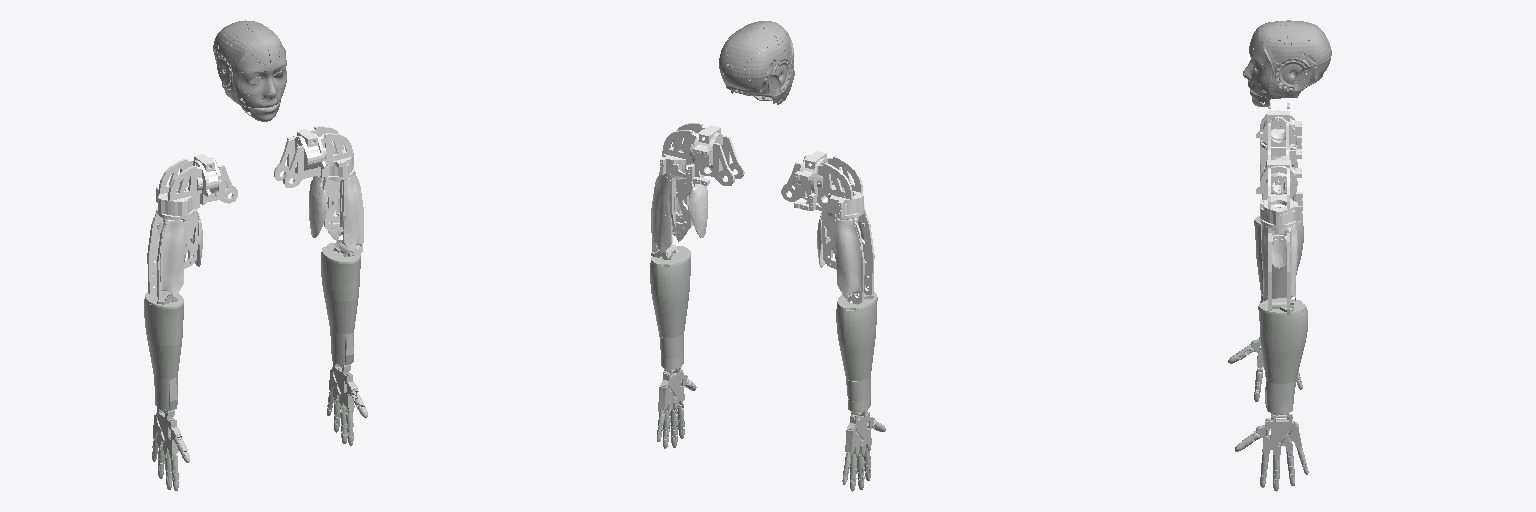
--- Facts derived from the render (not from the file) ---
3 views of the same robot in one strip: view 1: azimuth 30°, elevation 25°; view 2: azimuth 150°, elevation 25°; view 3: azimuth 270°, elevation 25° (orthographic).
Robot: zetax — 47 links, 46 joints (46 revolute); root link base_link; default pose: all joints at 0.
Visible links, largest first — view 1: head_rl_J47, right_bicep_J3, left_hand_J27, right_hand_J4, left_bicep_J26, right_shoulder_forw_backw_J2, left_shoulder_up_down_J24, left_shoulder_forw_backw_J25, right_shoulder_up_down_J1, right_wrist_J5, left_wrist_J28; view 2: head_rl_J47, right_bicep_J3, left_hand_J27, right_hand_J4, left_bicep_J26, right_shoulder_forw_backw_J2, left_shoulder_up_down_J24, left_shoulder_forw_backw_J25, right_shoulder_up_down_J1, right_wrist_J5, left_wrist_J28; view 3: head_rl_J47, left_hand_J27, left_bicep_J26, left_shoulder_forw_backw_J25, right_shoulder_up_down_J1, right_hand_J4, left_wrist_J28.
Link boxes in pixels (bbox=[...]): head_rl_J47: bbox=[213, 20, 286, 121]; right_bicep_J3: bbox=[147, 206, 202, 300]; left_hand_J27: bbox=[321, 240, 360, 364]; right_hand_J4: bbox=[144, 291, 183, 410]; left_bicep_J26: bbox=[309, 167, 363, 256]; right_shoulder_forw_backw_J2: bbox=[156, 159, 210, 215]; left_shoulder_up_down_J24: bbox=[274, 129, 321, 187]; left_shoulder_forw_backw_J25: bbox=[310, 126, 353, 177]; right_shoulder_up_down_J1: bbox=[193, 154, 237, 203]; right_wrist_J5: bbox=[154, 407, 178, 459]; left_wrist_J28: bbox=[330, 362, 354, 412]; head_rl_J47: bbox=[719, 21, 794, 104]; right_bicep_J3: bbox=[817, 205, 874, 304]; left_hand_J27: bbox=[650, 244, 690, 368]; right_hand_J4: bbox=[836, 292, 877, 411]; left_bicep_J26: bbox=[651, 172, 707, 256]; right_shoulder_forw_backw_J2: bbox=[809, 156, 863, 217]; left_shoulder_up_down_J24: bbox=[693, 125, 744, 185]; left_shoulder_forw_backw_J25: bbox=[660, 123, 706, 181]; right_shoulder_up_down_J1: bbox=[781, 151, 826, 210]; right_wrist_J5: bbox=[846, 409, 871, 456]; left_wrist_J28: bbox=[659, 366, 684, 412]; head_rl_J47: bbox=[1243, 20, 1331, 106]; left_hand_J27: bbox=[1258, 298, 1307, 413]; left_bicep_J26: bbox=[1260, 218, 1297, 310]; left_shoulder_forw_backw_J25: bbox=[1256, 166, 1302, 225]; right_shoulder_up_down_J1: bbox=[1260, 111, 1301, 159]; right_hand_J4: bbox=[1254, 216, 1303, 302]; left_wrist_J28: bbox=[1262, 413, 1298, 458].
Size in the robot's own frame: 0.5813 by 0.2535 by 1.15 metres.
Meshes: 47 distinct files referenced, 46 mesh visuals loaded (46 binary STL); not drawn: 1 (reference not matched to a file when rendering).

The robot description file, URDF, robot "zetax":
<?xml version="1.0" ?>
<!-- =================================================================================== -->
<!-- |    This document was autogenerated by xacro from [local-path]/zetaxbot/src/zetax/urdf/zetax.urdf.xacro | -->
<!-- |    EDITING THIS FILE BY HAND IS NOT RECOMMENDED                                 | -->
<!-- =================================================================================== -->
<!--
This URDF was automatically created by SolidWorks to URDF Exporter! Originally created by Stephen Brawner ([email redacted])
Commit Version: 1.6.0-4-g7f85cfe  Build Version: 1.6.7995.38578
For more information, please see http://wiki.ros.org/sw_urdf_exporter
-->
<robot name="zetax">
    <link name="base_link">
        <inertial>
            <!-- xyz="8.30385774387186E-06 -0.00564900549699818 0.407657033872951" -->
            <origin rpy="0 0 0" xyz="0 0 0" />
            <mass value="9.78773130984725" />
            <inertia ixx="0" ixy="0" ixz="0" iyy="0" iyz="0" izz="0" />
        </inertial>
        <visual>
            <origin rpy="0 0 0" xyz="0 0 0" />
            <geometry>
                <mesh filename="package://zetax/meshes/base_link.STL" />
            </geometry>
            <material name="">
                <color rgba="0.827450980392157 0.83921568627451 0.827450980392157 1" />
            </material>
        </visual>
        <collision>
            <origin rpy="0 0 0" xyz="0 0 0" />
            <geometry>
                <mesh filename="package://zetax/meshes/base_link.STL" />
            </geometry>
        </collision>
    </link>
    <link name="right_shoulder_up_down_J1">
        <inertial>
            <origin rpy="0 0 0" xyz="0.0153103411855154 0.0488164370602937 0.0492738852648198" />
            <mass value="0.30055137668225" />
            <inertia ixx="0.000449736475717685" ixy="-7.75811645757491E-06" ixz="-5.07621826856943E-06" iyy="0.000192182916580971" iyz="-1.88936498599343E-05" izz="0.000306606619774997" />
        </inertial>
        <visual>
            <origin rpy="0 0 0" xyz="0 0 0" />
            <geometry>
                <mesh filename="package://zetax/meshes/right_shoulder_up_down_J1.STL" />
            </geometry>
            <material name="">
                <color rgba="1 1 1 1" />
            </material>
        </visual>
        <collision>
            <origin rpy="0 0 0" xyz="0 0 0" />
            <geometry>
                <mesh filename="package://zetax/meshes/right_shoulder_up_down_J1.STL" />
            </geometry>
        </collision>
    </link>
    <joint name="J1" type="revolute">
        <origin rpy="-1.5708 0 0" xyz="-0.14354 -0.0547 0.90833" />
        <parent link="base_link" />
        <child link="right_shoulder_up_down_J1" />
        <axis xyz="0 0 1" />
        <limit effort="0" lower="0" upper="1.57" velocity="0" />
    </joint>
    <link name="right_shoulder_forw_backw_J2">
        <inertial>
            <origin rpy="0 0 0" xyz="0.0446469801637055 0.0228744232692757 -0.00275740740024161" />
            <mass value="0.403176904286232" />
            <inertia ixx="0.000343284355940545" ixy="-1.15995503921432E-06" ixz="-1.22811066459E-05" iyy="0.000457510691442232" iyz="-6.93541963407655E-06" izz="0.000360012473378437" />
        </inertial>
        <visual>
            <origin rpy="0 0 0" xyz="0 0 0" />
            <geometry>
                <mesh filename="package://zetax/meshes/right_shoulder_forw_backw_J2.STL" />
            </geometry>
            <material name="">
                <color rgba="1 1 1 1" />
            </material>
        </visual>
        <collision>
            <origin rpy="0 0 0" xyz="0 0 0" />
            <geometry>
                <mesh filename="package://zetax/meshes/right_shoulder_forw_backw_J2.STL" />
            </geometry>
        </collision>
    </link>
    <joint name="J2" type="revolute">
        <origin rpy="-3.1416 0 3.1416" xyz="-0.011824 0.03981 0.045862" />
        <parent link="right_shoulder_up_down_J1" />
        <child link="right_shoulder_forw_backw_J2" />
        <axis xyz="1 0 0" />
        <limit effort="0" lower="0" upper="1.57" velocity="0" />
    </joint>
    <link name="right_bicep_J3">
        <inertial>
            <origin rpy="0 0 0" xyz="-0.00664408741859399 -5.97015817801298E-05 -0.0827827026602137" />
            <mass value="0.500684348318071" />
            <inertia ixx="0.000405508349808579" ixy="-4.43264630740647E-07" ixz="-8.59139485963849E-05" iyy="0.000666172399407517" iyz="-2.28923617458674E-07" izz="0.000403330494710682" />
        </inertial>
        <visual>
            <origin rpy="0 0 0" xyz="0 0 0" />
            <geometry>
                <mesh filename="package://zetax/meshes/right_bicep_J3.STL" />
            </geometry>
            <material name="">
                <color rgba="1 1 1 1" />
            </material>
        </visual>
        <collision>
            <origin rpy="0 0 0" xyz="0 0 0" />
            <geometry>
                <mesh filename="package://zetax/meshes/right_bicep_J3.STL" />
            </geometry>
        </collision>
    </link>
    <joint name="J3" type="revolute">
        <origin rpy="-1.5708 0 -3.1416" xyz="0.066391 0.062911 -2.2895E-05" />
        <parent link="right_shoulder_forw_backw_J2" />
        <child link="right_bicep_J3" />
        <axis xyz="0 0 1" />
        <limit effort="0" lower="-1.57" upper="1.57" velocity="0" />
    </joint>
    <link name="right_hand_J4">
        <inertial>
            <origin rpy="0 0 0" xyz="-0.00051849594887482 -0.0896886610886017 -0.0236602080704487" />
            <mass value="0.305840674504553" />
            <inertia ixx="0.000493914524722846" ixy="-2.18663073380393E-07" ixz="2.39632973455391E-06" iyy="0.000506123179189836" iyz="2.37152311419707E-06" izz="0.000341594678834825" />
        </inertial>
        <visual>
            <origin rpy="0 0 0" xyz="0 0 0" />
            <geometry>
                <mesh filename="package://zetax/meshes/right_hand_J4.STL" />
            </geometry>
            <material name="">
                <color rgba="0.827450980392157 0.83921568627451 0.827450980392157 1" />
            </material>
        </visual>
        <collision>
            <origin rpy="0 0 0" xyz="0 0 0" />
            <geometry>
                <mesh filename="package://zetax/meshes/right_hand_J4.STL" />
            </geometry>
        </collision>
    </link>
    <joint name="J4" type="revolute">
        <origin rpy="1.5707 0 0.001174" xyz="-0.031081 -0.026418 -0.22476" />
        <parent link="right_bicep_J3" />
        <child link="right_hand_J4" />
        <axis xyz="0 0 1" />
        <limit effort="0" lower="0" upper="1.57" velocity="0" />
    </joint>
    <link name="right_wrist_J5">
        <inertial>
            <origin rpy="0 0 0" xyz="-0.000114101901909747 0.00644608275733352 0.0569793460274128" />
            <mass value="0.0836281309746193" />
            <inertia ixx="8.68948537796338E-05" ixy="7.39495664486675E-08" ixz="2.94773115317809E-07" iyy="6.09815762715336E-05" iyz="-1.95191463960257E-05" izz="3.11880385129723E-05" />
        </inertial>
        <visual>
            <origin rpy="0 0 0" xyz="0 0 0" />
            <geometry>
                <mesh filename="package://zetax/meshes/right_wrist_J5.STL" />
            </geometry>
            <material name="">
                <color rgba="0.827450980392157 0.83921568627451 0.827450980392157 1" />
            </material>
        </visual>
        <collision>
            <origin rpy="0 0 0" xyz="0 0 0" />
            <geometry>
                <mesh filename="package://zetax/meshes/right_wrist_J5.STL" />
            </geometry>
        </collision>
    </link>
    <joint name="J5" type="revolute">
        <origin rpy="1.5658 -0.001174 0" xyz="-0.00026291 -0.28325 -0.016282" />
        <parent link="right_hand_J4" />
        <child link="right_wrist_J5" />
        <axis xyz="0 0 1" />
        <limit effort="0" lower="-1.57" upper="1.57" velocity="0" />
    </joint>
    <link name="right_thump_J7">
        <inertial>
            <origin rpy="0 0 0" xyz="-0.000312541279265832 -0.0159735942310025 -0.00229614451493243" />
            <mass value="0.0103243031875615" />
            <inertia ixx="1.09991220710435E-06" ixy="-5.0205219342428E-09" ixz="-6.31358336053234E-09" iyy="9.4554149761043E-07" iyz="7.36808844017295E-08" izz="7.48337316330889E-07" />
        </inertial>
        <visual>
            <origin rpy="0 0 0" xyz="0 0 0" />
            <geometry>
                <mesh filename="package://zetax/meshes/right_thump_J7.STL" />
            </geometry>
            <material name="">
                <color rgba="0.827450980392157 0.83921568627451 0.827450980392157 1" />
            </material>
        </visual>
        <collision>
            <origin rpy="0 0 0" xyz="0 0 0" />
            <geometry>
                <mesh filename="package://zetax/meshes/right_thump_J7.STL" />
            </geometry>
        </collision>
    </link>
    <joint name="J7" type="revolute">
        <origin rpy="3.0585 0 0" xyz="0 0.030154 0.05991" />
        <parent link="right_wrist_J5" />
        <child link="right_thump_J7" />
        <axis xyz="0 0 1" />
        <limit effort="0" lower="0" upper="1.57" velocity="0" />
    </joint>
    <link name="right_thump_J8">
        <inertial>
            <origin rpy="0 0 0" xyz="0.00263831372173146 -0.0173217879633072 -0.00325000625952035" />
            <mass value="0.00578743353711955" />
            <inertia ixx="3.72666607894796E-07" ixy="5.56843823703261E-09" ixz="-7.69389962117362E-13" iyy="3.35633840073675E-07" iyz="2.00234946621592E-13" izz="2.90221053702595E-07" />
        </inertial>
        <visual>
            <origin rpy="0 0 0" xyz="0 0 0" />
            <geometry>
                <mesh filename="package://zetax/meshes/right_thump_J8.STL" />
            </geometry>
            <material name="">
                <color rgba="0.827450980392157 0.83921568627451 0.827450980392157 1" />
            </material>
        </visual>
        <collision>
            <origin rpy="0 0 0" xyz="0 0 0" />
            <geometry>
                <mesh filename="package://zetax/meshes/right_thump_J8.STL" />
            </geometry>
        </collision>
    </link>
    <joint name="J8" type="revolute">
        <origin rpy="0.76984 0.32309 0.29857" xyz="-0.0022994 -0.034211 -0.0096226" />
        <parent link="right_thump_J7" />
        <child link="right_thump_J8" />
        <axis xyz="0 0 -1" />
        <limit effort="0" lower="0" upper="0" velocity="0" />
        <mimic joint="J7" multiplier="-0.7" offset="0" />
    </joint>
    <link name="right_thump_J9">
        <inertial>
            <origin rpy="0 0 0" xyz="-0.000487645597847364 -0.0133117732514413 -0.00324058247978604" />
            <mass value="0.004086100810224" />
            <inertia ixx="1.8045778456823E-07" ixy="1.31774837356245E-08" ixz="1.41067502616413E-10" iyy="1.6693109886181E-07" iyz="-2.07089987511365E-11" izz="1.95952066397287E-07" />
        </inertial>
        <visual>
            <origin rpy="0 0 0" xyz="0 0 0" />
            <geometry>
                <mesh filename="package://zetax/meshes/right_thump_J9.STL" />
            </geometry>
            <material name="">
                <color rgba="0.827450980392157 0.83921568627451 0.827450980392157 1" />
            </material>
        </visual>
        <collision>
            <origin rpy="0 0 0" xyz="0 0 0" />
            <geometry>
                <mesh filename="package://zetax/meshes/right_thump_J9.STL" />
            </geometry>
        </collision>
    </link>
    <joint name="J9" type="revolute">
        <origin rpy="0 0 0" xyz="0.0018602 -0.028082 0" />
        <parent link="right_thump_J8" />
        <child link="right_thump_J9" />
        <axis xyz="0 0 -1" />
        <limit effort="0" lower="0" upper="0" velocity="0" />
        <mimic joint="J8" multiplier="0.3" offset="0" />
    </joint>
    <link name="right_index_J10">
        <inertial>
            <origin rpy="0 0 0" xyz="0.000885768796903552 0.0181923331643391 0.00325002739626079" />
            <mass value="0.00464663258164643" />
            <inertia ixx="3.43446856353789E-07" ixy="-3.61141088926714E-09" ixz="1.46546023221946E-10" iyy="2.19871475309783E-07" iyz="1.20170564999191E-12" izz="2.98903706139635E-07" />
        </inertial>
        <visual>
            <origin rpy="0 0 0" xyz="0 0 0" />
            <geometry>
                <mesh filename="package://zetax/meshes/right_index_J10.STL" />
            </geometry>
            <material name="">
                <color rgba="0.827450980392157 0.83921568627451 0.827450980392157 1" />
            </material>
        </visual>
        <collision>
            <origin rpy="0 0 0" xyz="0 0 0" />
            <geometry>
                <mesh filename="package://zetax/meshes/right_index_J10.STL" />
            </geometry>
        </collision>
    </link>
    <joint name="J10" type="revolute">
        <origin rpy="1.4739 0 0" xyz="0.0005 0.038503 0.121" />
        <parent link="right_wrist_J5" />
        <child link="right_index_J10" />
        <axis xyz="0 0 -1" />
        <limit effort="0" lower="0" upper="1.57" velocity="0" />
    </joint>
    <link name="right_index_J11">
        <inertial>
            <origin rpy="0 0 0" xyz="-0.00112479025271311 0.0108503126007952 0.00325028734460535" />
            <mass value="0.0029694189425259" />
            <inertia ixx="1.11378032864788E-07" ixy="-6.59585267819045E-09" ixz="4.07927660175476E-12" iyy="9.24092224681025E-08" iyz="6.36819227427545E-12" izz="1.09028843349904E-07" />
        </inertial>
        <visual>
            <origin rpy="0 0 0" xyz="0 0 0" />
            <geometry>
                <mesh filename="package://zetax/meshes/right_index_J11.STL" />
            </geometry>
            <material name="">
                <color rgba="0.827450980392157 0.83921568627451 0.827450980392157 1" />
            </material>
        </visual>
        <collision>
            <origin rpy="0 0 0" xyz="0 0 0" />
            <geometry>
                <mesh filename="package://zetax/meshes/right_index_J11.STL" />
            </geometry>
        </collision>
    </link>
    <joint name="J11" type="revolute">
        <origin rpy="0 0 0" xyz="0.0014005 0.0358 0" />
        <parent link="right_index_J10" />
        <child link="right_index_J11" />
        <axis xyz="0 0 1" />
        <limit effort="0" lower="0" upper="0" velocity="0" />
        <mimic joint="J10" multiplier="-0.7" offset="0" />
    </joint>
    <link name="right_index_J12">
        <inertial>
            <origin rpy="0 0 0" xyz="0.000415442786964482 0.0114626267171603 0.00324842592671561" />
            <mass value="0.0024583573430902" />
            <inertia ixx="8.02407963934757E-08" ixy="-6.59250875166553E-09" ixz="-3.07796695485008E-11" iyy="6.18424662609382E-08" iyz="-3.08476291172074E-11" izz="8.42610823013142E-08" />
        </inertial>
        <visual>
            <origin rpy="0 0 0" xyz="0 0 0" />
            <geometry>
                <mesh filename="package://zetax/meshes/right_index_J12.STL" />
            </geometry>
            <material name="">
                <color rgba="0.827450980392157 0.83921568627451 0.827450980392157 1" />
            </material>
        </visual>
        <collision>
            <origin rpy="0 0 0" xyz="0 0 0" />
            <geometry>
                <mesh filename="package://zetax/meshes/right_index_J12.STL" />
            </geometry>
        </collision>
    </link>
    <joint name="J12" type="revolute">
        <origin rpy="0 0 0" xyz="-0.0015 0.023 0" />
        <parent link="right_index_J11" />
        <child link="right_index_J12" />
        <axis xyz="0 0 1" />
        <limit effort="0" lower="0" upper="0" velocity="0" />
        <mimic joint="J11" multiplier="0.3" offset="0" />
    </joint>
    <link name="right_middle_J13">
        <inertial>
            <origin rpy="0 0 0" xyz="0.00093448572400906 0.0191929103014755 -0.00342872444496174" />
            <mass value="0.00545626791359473" />
            <inertia ixx="4.48871160567151E-07" ixy="-4.71994440627214E-09" ixz="1.91334158820802E-10" iyy="2.87363177525294E-07" iyz="1.59686790225507E-12" izz="3.90655204851821E-07" />
        </inertial>
        <visual>
            <origin rpy="0 0 0" xyz="0 0 0" />
            <geometry>
                <mesh filename="package://zetax/meshes/right_middle_J13.STL" />
            </geometry>
            <material name="">
                <color rgba="0.827450980392157 0.83921568627451 0.827450980392157 1" />
            </material>
        </visual>
        <collision>
            <origin rpy="0 0 0" xyz="0 0 0" />
            <geometry>
                <mesh filename="package://zetax/meshes/right_middle_J13.STL" />
            </geometry>
        </collision>
    </link>
    <joint name="J13" type="revolute">
        <origin rpy="1.54697555534349 0 0" xyz="0.000499999999999945 0.0049248143934115 0.125899819314373" />
        <parent link="right_wrist_J5" />
        <child link="right_middle_J13" />
        <axis xyz="0 0 -1" />
        <limit effort="0" lower="0" upper="1.57" velocity="0" />
    </joint>
    <link name="right_middle_J14">
        <inertial>
            <origin rpy="0 0 0" xyz="-0.00118665470615636 0.0114470881360954 -0.00342835648925043" />
            <mass value="0.00348681203810925" />
            <inertia ixx="1.45566387781986E-07" ixy="-8.62035369789367E-09" ixz="5.04714736200374E-12" iyy="1.20774944205303E-07" iyz="7.26536743973101E-12" izz="1.42496278066435E-07" />
        </inertial>
        <visual>
            <origin rpy="0 0 0" xyz="0 0 0" />
            <geometry>
                <mesh filename="package://zetax/meshes/right_middle_J14.STL" />
            </geometry>
            <material name="">
                <color rgba="0.827450980392157 0.83921568627451 0.827450980392157 1" />
            </material>
        </visual>
        <collision>
            <origin rpy="0 0 0" xyz="0 0 0" />
            <geometry>
                <mesh filename="package://zetax/meshes/right_middle_J14.STL" />
            </geometry>
        </collision>
    </link>
    <joint name="J14" type="revolute">
        <origin rpy="0 0 0" xyz="0.00147757420956629 0.0377689999999999 0" />
        <parent link="right_middle_J13" />
        <child link="right_middle_J14" />
        <axis xyz="0 0 1" />
        <limit effort="0" lower="0" upper="0" velocity="0" />
        <mimic joint="J13" multiplier="-0.7" offset="0" />
    </joint>
    <link name="right_middle_J15">
        <inertial>
            <origin rpy="0 0 0" xyz="0.000438288966745082 0.0120931291119732 -0.0034304361065291" />
            <mass value="0.00288671634599157" />
            <inertia ixx="1.0487197371271E-07" ixy="-8.6159556716268E-09" ixz="-4.02058520089483E-11" iyy="8.08259928414099E-08" iyz="-3.99246485498087E-11" izz="1.10125860384991E-07" />
        </inertial>
        <visual>
            <origin rpy="0 0 0" xyz="0 0 0" />
            <geometry>
                <mesh filename="package://zetax/meshes/right_middle_J15.STL" />
            </geometry>
            <material name="">
                <color rgba="0.827450980392157 0.83921568627451 0.827450980392157 1" />
            </material>
        </visual>
        <collision>
            <origin rpy="0 0 0" xyz="0 0 0" />
            <geometry>
                <mesh filename="package://zetax/meshes/right_middle_J15.STL" />
            </geometry>
        </collision>
    </link>
    <joint name="J15" type="revolute">
        <origin rpy="0 0 0" xyz="-0.00158249999999993 0.024265 0" />
        <parent link="right_middle_J14" />
        <child link="right_middle_J15" />
        <axis xyz="0 0 1" />
        <limit effort="0" lower="0" upper="0" velocity="0" />
        <mimic joint="J14" multiplier="0.3" offset="0" />
    </joint>
    <link name="right_little_J16">
        <inertial>
            <origin rpy="0 0 0" xyz="-8.98024008864629E-05 0.0206467540578174 -0.00517311514485388" />
            <mass value="0.0179601624148531" />
            <inertia ixx="4.63043215432541E-06" ixy="3.28723230229524E-08" ixz="-2.80419616476293E-08" iyy="2.14820492587722E-06" iyz="1.31085473365563E-06" izz="3.35618938107579E-06" />
        </inertial>
        <visual>
            <origin rpy="0 0 0" xyz="0 0 0" />
            <geometry>
                <mesh filename="package://zetax/meshes/right_little_J16.STL" />
            </geometry>
            <material name="">
                <color rgba="0.827450980392157 0.83921568627451 0.827450980392157 1" />
            </material>
        </visual>
        <collision>
            <origin rpy="0 0 0" xyz="0 0 0" />
            <geometry>
                <mesh filename="package://zetax/meshes/right_little_J16.STL" />
            </geometry>
        </collision>
    </link>
    <joint name="J16" type="revolute">
        <origin rpy="2.45248970858413 0 0" xyz="0 -0.0245669987447082 0.0562148526643473" />
        <parent link="right_wrist_J5" />
        <child link="right_little_J16" />
        <axis xyz="0 0 -1" />
        <limit effort="0" lower="0" upper="0.3" velocity="0" />
    </joint>
    <link name="right_little_J17">
        <inertial>
            <origin rpy="0 0 0" xyz="0.000738285310396103 -0.0151633108275956 -0.00354238308959057" />
            <mass value="0.00269063748938314" />
            <inertia ixx="1.38161588926314E-07" ixy="1.4527831711997E-09" ixz="-5.86415639001342E-11" iyy="8.84498221632085E-08" iyz="5.34062842370107E-13" izz="1.20242933188226E-07" />
        </inertial>
        <visual>
            <origin rpy="0 0 0" xyz="0 0 0" />
            <geometry>
                <mesh filename="package://zetax/meshes/right_little_J17.STL" />
            </geometry>
            <material name="">
                <color rgba="0.827450980392157 0.83921568627451 0.827450980392157 1" />
            </material>
        </visual>
        <collision>
            <origin rpy="0 0 0" xyz="0 0 0" />
            <geometry>
                <mesh filename="package://zetax/meshes/right_little_J17.STL" />
            </geometry>
        </collision>
    </link>
    <joint name="J17" type="revolute">
        <origin rpy="2.5138228945981 0 0" xyz="0.0003000000000003 0.0457645578352131 -0.0251422576705387" />
        <parent link="right_little_J16" />
        <child link="right_little_J17" />
        <axis xyz="0 0 1" />
        <limit effort="0" lower="0" upper="0" velocity="0" />
        <mimic joint="J16" multiplier="5" offset="0" />
    </joint>
    <link name="right_little_J18">
        <inertial>
            <origin rpy="0 0 0" xyz="-5.03587732555433E-05 -0.00909197174782861 -0.00354251907251552" />
            <mass value="0.00171949550424563" />
            <inertia ixx="4.4224354490247E-08" ixy="3.34459922111536E-09" ixz="-2.13170417332028E-12" iyy="3.7763582384764E-08" iyz="3.02539180861974E-12" izz="4.38544333330661E-08" />
        </inertial>
        <visual>
            <origin rpy="0 0 0" xyz="0 0 0" />
            <geometry>
                <mesh filename="package://zetax/meshes/right_little_J18.STL" />
            </geometry>
            <material name="">
                <color rgba="0.827450980392157 0.83921568627451 0.827450980392157 1" />
            </material>
        </visual>
        <collision>
            <origin rpy="0 0 0" xyz="0 0 0" />
            <geometry>
                <mesh filename="package://zetax/meshes/right_little_J18.STL" />
            </geometry>
        </collision>
    </link>
    <joint name="J18" type="revolute">
        <origin rpy="0 0 0" xyz="0.00116735365277099 -0.0298393000000001 0" />
        <parent link="right_little_J17" />
        <child link="right_little_J18" />
        <axis xyz="0 0 -1" />
        <limit effort="0" lower="0" upper="0" velocity="0" />
        <mimic joint="J17" multiplier="-0.7" offset="0" />
    </joint>
    <link name="right_little_J19">
        <inertial>
            <origin rpy="0 0 0" xyz="0.00034628949288168 -0.00955417083022873 -0.00354106858562218" />
            <mass value="0.00142350707680254" />
            <inertia ixx="3.2279550726875E-08" ixy="2.65202727902269E-09" ixz="1.23565562115379E-11" iyy="2.48779291907755E-08" iyz="-1.24006550660179E-11" izz="3.38968343808897E-08" />
        </inertial>
        <visual>
            <origin rpy="0 0 0" xyz="0 0 0" />
            <geometry>
                <mesh filename="package://zetax/meshes/right_little_J19.STL" />
            </geometry>
            <material name="">
                <color rgba="0.827450980392157 0.83921568627451 0.827450980392157 1" />
            </material>
        </visual>
        <collision>
            <origin rpy="0 0 0" xyz="0 0 0" />
            <geometry>
                <mesh filename="package://zetax/meshes/right_little_J19.STL" />
            </geometry>
        </collision>
    </link>
    <joint name="J19" type="revolute">
        <origin rpy="0 0 0" xyz="0.000626873297826347 -0.0192009954216176 0" />
        <parent link="right_little_J18" />
        <child link="right_little_J19" />
        <axis xyz="0 0 -1" />
        <limit effort="0" lower="0" upper="0" velocity="0" />
        <mimic joint="J18" multiplier="0.3" offset="0" />
    </joint>
    <link name="right_ring_J20">
        <inertial>
            <origin rpy="0 0 0" xyz="-0.000105678808513643 0.0177423765079019 -0.00227735628746051" />
            <mass value="0.0133231613815407" />
            <inertia ixx="2.53720274403352E-06" ixy="2.24359389501848E-08" ixz="-1.26426387567194E-08" iyy="1.26031160104865E-06" iyz="5.29805441775577E-07" izz="1.92896860086194E-06" />
        </inertial>
        <visual>
            <origin rpy="0 0 0" xyz="0 0 0" />
            <geometry>
                <mesh filename="package://zetax/meshes/right_ring_J20.STL" />
            </geometry>
            <material name="">
                <color rgba="0.827450980392157 0.83921568627451 0.827450980392157 1" />
            </material>
        </visual>
        <collision>
            <origin rpy="0 0 0" xyz="0 0 0" />
            <geometry>
                <mesh filename="package://zetax/meshes/right_ring_J20.STL" />
            </geometry>
        </collision>
    </link>
    <joint name="J20" type="revolute">
        <origin rpy="2.45248970858413 0 0" xyz="0 -0.00462154667570825 0.0804255194490987" />
        <parent link="right_wrist_J5" />
        <child link="right_ring_J20" />
        <axis xyz="0 0 -1" />
        <limit effort="0" lower="0" upper="0.3" velocity="0" />
    </joint>
    <link name="right_ring_J21">
        <inertial>
            <origin rpy="0 0 0" xyz="0.000885765472167344 -0.0181923324616347 -0.00325000959007114" />
            <mass value="0.0046466326400844" />
            <inertia ixx="3.43446584998095E-07" ixy="3.6113649242351E-09" ixz="-1.45752572936174E-10" iyy="2.19871458526461E-07" iyz="1.31703590233812E-12" izz="2.98903865706348E-07" />
        </inertial>
        <visual>
            <origin rpy="0 0 0" xyz="0 0 0" />
            <geometry>
                <mesh filename="package://zetax/meshes/right_ring_J21.STL" />
            </geometry>
            <material name="">
                <color rgba="0.827450980392157 0.83921568627451 0.827450980392157 1" />
            </material>
        </visual>
        <collision>
            <origin rpy="0 0 0" xyz="0 0 0" />
            <geometry>
                <mesh filename="package://zetax/meshes/right_ring_J21.STL" />
            </geometry>
        </collision>
    </link>
    <joint name="J21" type="revolute">
        <origin rpy="2.3454052782576 0 0" xyz="0.000300000000000133 0.0353164766008508 -0.0193875475750147" />
        <parent link="right_ring_J20" />
        <child link="right_ring_J21" />
        <axis xyz="0 0 1" />
        <limit effort="0" lower="0" upper="0" velocity="0" />
        <mimic joint="J20" multiplier="5" offset="0" />
    </joint>
    <link name="right_ring_J22">
        <inertial>
            <origin rpy="0 0 0" xyz="-0.00112479920719416 -0.0108503138070926 -0.00325048082916662" />
            <mass value="0.0029694193874999" />
            <inertia ixx="1.11378037517521E-07" ixy="6.5957091819035E-09" ixz="-3.58278563863887E-12" iyy="9.24091422366065E-08" iyz="4.56068615493303E-12" izz="1.09028794715161E-07" />
        </inertial>
        <visual>
            <origin rpy="0 0 0" xyz="0 0 0" />
            <geometry>
                <mesh filename="package://zetax/meshes/right_ring_J22.STL" />
            </geometry>
            <material name="">
                <color rgba="0.827450980392157 0.83921568627451 0.827450980392157 1" />
            </material>
        </visual>
        <collision>
            <origin rpy="0 0 0" xyz="0 0 0" />
            <geometry>
                <mesh filename="package://zetax/meshes/right_ring_J22.STL" />
            </geometry>
        </collision>
    </link>
    <joint name="J22" type="revolute">
        <origin rpy="0 0 0" xyz="0.00140054427447051 -0.0358 0" />
        <parent link="right_ring_J21" />
        <child link="right_ring_J22" />
        <axis xyz="0 0 -1" />
        <limit effort="0" lower="0" upper="0" velocity="0" />
        <mimic joint="J21" multiplier="-0.7" offset="0" />
    </joint>
    <link name="right_ring_J23">
        <inertial>
            <origin rpy="0 0 0" xyz="0.0004154465780426 -0.0114626823210635 -0.00324842438070902" />
            <mass value="0.00245836239377154" />
            <inertia ixx="8.02415848752415E-08" ixy="6.5924895014897E-09" ixz="3.07368349181426E-11" iyy="6.18423906188225E-08" iyz="-3.08203788063756E-11" izz="8.4261851740819E-08" />
        </inertial>
        <visual>
            <origin rpy="0 0 0" xyz="0 0 0" />
            <geometry>
                <mesh filename="package://zetax/meshes/right_ring_J23.STL" />
            </geometry>
            <material name="">
                <color rgba="0.827450980392157 0.83921568627451 0.827450980392157 1" />
            </material>
        </visual>
        <collision>
            <origin rpy="0 0 0" xyz="0 0 0" />
            <geometry>
                <mesh filename="package://zetax/meshes/right_ring_J23.STL" />
            </geometry>
        </collision>
    </link>
    <joint name="J23" type="revolute">
        <origin rpy="0 0 0" xyz="-0.00149999999999995 -0.023 0" />
        <parent link="right_ring_J22" />
        <child link="right_ring_J23" />
        <axis xyz="0 0 -1" />
        <limit effort="0" lower="0" upper="0" velocity="0" />
        <mimic joint="J22" multiplier="0.3" offset="0" />
    </joint>
    <link name="left_shoulder_up_down_J24">
        <inertial>
            <origin rpy="0 0 0" xyz="-0.011709027508866 -0.0473030767898499 -0.0490241966657768" />
            <mass value="0.366045748940139" />
            <inertia ixx="0.000481352210731466" ixy="-8.02206075381562E-06" ixz="-5.21762437502641E-06" iyy="0.000219240097264633" iyz="-1.93959927720844E-05" izz="0.000334805992705867" />
        </inertial>
        <visual>
            <origin rpy="0 0 0" xyz="0 0 0" />
            <geometry>
                <mesh filename="package://zetax/meshes/left_shoulder_up_down_J24.STL" />
            </geometry>
            <material name="">
                <color rgba="1 1 1 1" />
            </material>
        </visual>
        <collision>
            <origin rpy="0 0 0" xyz="0 0 0" />
            <geometry>
                <mesh filename="package://zetax/meshes/left_shoulder_up_down_J24.STL" />
            </geometry>
        </collision>
    </link>
    <joint name="J24" type="revolute">
        <origin rpy="1.5708 0 0" xyz="0.14349 -0.0547 0.90833" />
        <parent link="base_link" />
        <child link="left_shoulder_up_down_J24" />
        <axis xyz="0 0 1" />
        <limit effort="0" lower="0" upper="1.57" velocity="0" />
    </joint>
    <link name="left_shoulder_forw_backw_J25">
        <inertial>
            <origin rpy="0 0 0" xyz="0.0231032969066377 0.00279018284147345 0.0447822812601939" />
            <mass value="0.405574951034979" />
            <inertia ixx="0.00045930773188588" ixy="5.88188195853634E-06" ixz="-1.17020062224993E-06" iyy="0.000360847956459487" iyz="1.19733191593354E-05" izz="0.000344228107819219" />
        </inertial>
        <visual>
            <origin rpy="0 0 0" xyz="0 0 0" />
            <geometry>
                <mesh filename="package://zetax/meshes/left_shoulder_forw_backw_J25.STL" />
            </geometry>
            <material name="">
                <color rgba="1 1 1 1" />
            </material>
        </visual>
        <collision>
            <origin rpy="0 0 0" xyz="0 0 0" />
            <geometry>
                <mesh filename="package://zetax/meshes/left_shoulder_forw_backw_J25.STL" />
            </geometry>
        </collision>
    </link>
    <joint name="J25" type="revolute">
        <origin rpy="-1.5708 0.010798 -1.5708" xyz="0.011824 -0.03981 -0.045862" />
        <parent link="left_shoulder_up_down_J24" />
        <child link="left_shoulder_forw_backw_J25" />
        <axis xyz="0 0 -1" />
        <limit effort="0" lower="0" upper="1.57" velocity="0" />
    </joint>
    <link name="left_bicep_J26">
        <inertial>
            <origin rpy="0 0 0" xyz="0.00664392075779083 0.000201403954469452 -0.082782114943592" />
            <mass value="0.500684348318072" />
            <inertia ixx="0.000405508349808579" ixy="-4.43264630740654E-07" ixz="8.59139485963849E-05" iyy="0.000666172399407517" iyz="2.28923617458689E-07" izz="0.000403330494710682" />
        </inertial>
        <visual>
            <origin rpy="0 0 0" xyz="0 0 0" />
            <geometry>
                <mesh filename="package://zetax/meshes/left_bicep_J26.STL" />
            </geometry>
            <material name="">
                <color rgba="1 1 1 1" />
            </material>
        </visual>
        <collision>
            <origin rpy="0 0 0" xyz="0 0 0" />
            <geometry>
                <mesh filename="package://zetax/meshes/left_bicep_J26.STL" />
            </geometry>
        </collision>
    </link>
    <joint name="J26" type="revolute">
        <origin rpy="-0.010798 -1.5708 0" xyz="0.062925 0.00020055 0.06637" />
        <parent link="left_shoulder_forw_backw_J25" />
        <child link="left_bicep_J26" />
        <axis xyz="9.8768E-05 0 1" />
        <limit effort="0" lower="-1.57" upper="1.57" velocity="0" />
    </joint>
    <link name="left_hand_J27">
        <inertial>
            <origin rpy="0 0 0" xyz="0.0896581668372653 0.0104780725768742 0.00750611346652837" />
            <mass value="0.305840580390109" />
            <inertia ixx="0.00050605673108009" ixy="5.36713437437591E-08" ixz="4.18239433454937E-06" iyy="0.000493919505026122" iyz="2.21669412286501E-06" izz="0.000341656614345577" />
        </inertial>
        <visual>
            <origin rpy="0 0 0" xyz="0 0 0" />
            <geometry>
                <mesh filename="package://zetax/meshes/left_hand_J27.STL" />
            </geometry>
            <material name="">
                <color rgba="0.827450980392157 0.83921568627451 0.827450980392157 1" />
            </material>
        </visual>
        <collision>
            <origin rpy="0 0 0" xyz="0 0 0" />
            <geometry>
                <mesh filename="package://zetax/meshes/left_hand_J27.STL" />
            </geometry>
        </collision>
    </link>
    <joint name="J27" type="revolute">
        <origin rpy="1.5707963267949 1.5707963267949 3.14" xyz="0.0311115203223557 0.000651653103004152 -0.224760630666411" />
        <parent link="left_bicep_J26" />
        <child link="left_hand_J27" />
        <axis xyz="0 0 1" />
        <limit effort="0" lower="0" upper="1.57" velocity="0" />
    </joint>
    <link name="left_wrist_J28">
        <inertial>
            <origin rpy="0 0 0" xyz="6.66629314221567E-05 0.00659266120720403 0.0570650016586986" />
            <mass value="0.0842248652210999" />
            <inertia ixx="8.68408181734921E-05" ixy="-7.22426686280789E-08" ixz="-3.07010407356253E-07" iyy="6.1091467715983E-05" iyz="-1.95634381700493E-05" izz="3.10482469647847E-05" />
        </inertial>
        <visual>
            <origin rpy="0 0 0" xyz="0 0 0" />
            <geometry>
                <mesh filename="package://zetax/meshes/left_wrist_J28.STL" />
            </geometry>
            <material name="">
                <color rgba="0.827450980392157 0.83921568627451 0.827450980392157 1" />
            </material>
        </visual>
        <collision>
            <origin rpy="0 0 0" xyz="0 0 0" />
            <geometry>
                <mesh filename="package://zetax/meshes/left_wrist_J28.STL" />
            </geometry>
        </collision>
    </link>
    <joint name="J28" type="revolute">
        <origin rpy="-1.56565407336858 0 -1.57079632679489" xyz="0.283286661889347 0.0114518877264726 0.00110813844468826" />
        <parent link="left_hand_J27" />
        <child link="left_wrist_J28" />
        <axis xyz="0 0 1" />
        <limit effort="0" lower="-1.57" upper="1.57" velocity="0" />
    </joint>
    <link name="left_thump_J29">
        <inertial>
            <origin rpy="0 0 0" xyz="0.00266841724897404 0.0156465507879137 -0.000404617053655409" />
            <mass value="0.0103243116380133" />
            <inertia ixx="7.30194544069283E-07" ixy="7.13251963114658E-08" ixz="1.84454929948079E-08" iyy="9.6368513048861E-07" iyz="2.31613384147751E-08" izz="1.09991279381961E-06" />
        </inertial>
        <visual>
            <origin rpy="0 0 0" xyz="0 0 0" />
            <geometry>
                <mesh filename="package://zetax/meshes/left_thump_J29.STL" />
            </geometry>
            <material name="">
                <color rgba="0.827450980392157 0.83921568627451 0.827450980392157 1" />
            </material>
        </visual>
        <collision>
            <origin rpy="0 0 0" xyz="0 0 0" />
            <geometry>
                <mesh filename="package://zetax/meshes/left_thump_J29.STL" />
            </geometry>
        </collision>
    </link>
    <joint name="J29" type="revolute">
        <origin rpy="-1.5707963267949 -1.48772480012051 1.5707963267949" xyz="0 0.0301537554807792 0.059910432745544" />
        <parent link="left_wrist_J28" />
        <child link="left_thump_J29" />
        <axis xyz="1 0 0" />
        <limit effort="0" lower="0" upper="1.57" velocity="0" />
    </joint>
    <link name="left_thump_J30">
        <inertial>
            <origin rpy="0 0 0" xyz="-0.00263831390318975 -0.0173217886122727 0.00325000634147521" />
            <mass value="0.00578743340949038" />
            <inertia ixx="3.72666566645898E-07" ixy="-5.56844517299923E-09" ixz="-7.68859137038115E-13" iyy="3.35633839819086E-07" iyz="-2.12370246070054E-13" izz="2.90221037735518E-07" />
        </inertial>
        <visual>
            <origin rpy="0 0 0" xyz="0 0 0" />
            <geometry>
                <mesh filename="package://zetax/meshes/left_thump_J30.STL" />
            </geometry>
            <material name="">
                <color rgba="0.827450980392157 0.83921568627451 0.827450980392157 1" />
            </material>
        </visual>
        <collision>
            <origin rpy="0 0 0" xyz="0 0 0" />
            <geometry>
                <mesh filename="package://zetax/meshes/left_thump_J30.STL" />
            </geometry>
        </collision>
    </link>
    <joint name="J30" type="revolute">
        <origin rpy="-3.14159265358979 1.13446401379632 -0.720831183683775" xyz="0.0174453209292056 0.0273381512707959 -0.00229936946368775" />
        <parent link="left_thump_J29" />
        <child link="left_thump_J30" />
        <axis xyz="0 0 1" />
        <limit effort="0" lower="0" upper="0" velocity="0" />
        <mimic joint="J29" multiplier="-0.7" offset="0" />
    </joint>
    <link name="left_thump_J31">
        <inertial>
            <origin rpy="0 0 0" xyz="0.000487616392648937 -0.0133119368880611 0.00324059459410164" />
            <mass value="0.00408617164944154" />
            <inertia ixx="1.80456974298329E-07" ixy="-1.31781607449749E-08" ixz="1.40429960417958E-10" iyy="1.66933941443545E-07" iyz="2.09302687967355E-11" izz="1.95951523948477E-07" />
        </inertial>
        <visual>
            <origin rpy="0 0 0" xyz="0 0 0" />
            <geometry>
                <mesh filename="package://zetax/meshes/left_thump_J31.STL" />
            </geometry>
            <material name="">
                <color rgba="0.827450980392157 0.83921568627451 0.827450980392157 1" />
            </material>
        </visual>
        <collision>
            <origin rpy="0 0 0" xyz="0 0 0" />
            <geometry>
                <mesh filename="package://zetax/meshes/left_thump_J31.STL" />
            </geometry>
        </collision>
    </link>
    <joint name="J31" type="revolute">
        <origin rpy="0 0 0" xyz="-0.0018602449003523 -0.0280817818236706 0" />
        <parent link="left_thump_J30" />
        <child link="left_thump_J31" />
        <axis xyz="0 0 1" />
        <limit effort="0" lower="0" upper="0" velocity="0" />
        <mimic joint="J30" multiplier="0.3" offset="0" />
    </joint>
    <link name="left_index_J32">
        <inertial>
            <origin rpy="0 0 0" xyz="-0.000885765449923803 0.0181923325649633 0.00424999037991276" />
            <mass value="0.00464663267119149" />
            <inertia ixx="3.43446591970146E-07" ixy="3.61136627501463E-09" ixz="1.45754936161765E-10" iyy="2.1987146159152E-07" iyz="-1.31674951459423E-12" izz="2.98903867414834E-07" />
        </inertial>
        <visual>
            <origin rpy="0 0 0" xyz="0 0 0" />
            <geometry>
                <mesh filename="package://zetax/meshes/left_index_J32.STL" />
            </geometry>
            <material name="">
                <color rgba="0.827450980392157 0.83921568627451 0.827450980392157 1" />
            </material>
        </visual>
        <collision>
            <origin rpy="0 0 0" xyz="0 0 0" />
            <geometry>
                <mesh filename="package://zetax/meshes/left_index_J32.STL" />
            </geometry>
        </collision>
    </link>
    <joint name="J32" type="revolute">
        <origin rpy="1.47393402484139 0 0" xyz="-0.000499999999999973 0.0394980536523552 0.120903840169765" />
        <parent link="left_wrist_J28" />
        <child link="left_index_J32" />
        <axis xyz="0 0 1" />
        <limit effort="0" lower="0" upper="1.57" velocity="0" />
    </joint>
    <link name="left_index_J33">
        <inertial>
            <origin rpy="0 0 0" xyz="-0.00112480046063443 0.01085031199292 -0.00424950502456562" />
            <mass value="0.00296941989314023" />
            <inertia ixx="1.11378077675951E-07" ixy="-6.59571300984243E-09" ixz="3.54650309127025E-12" iyy="9.2409169179815E-08" iyz="4.42494493324929E-12" izz="1.09028794172596E-07" />
        </inertial>
        <visual>
            <origin rpy="0 0 0" xyz="0 0 0" />
            <geometry>
                <mesh filename="package://zetax/meshes/left_index_J33.STL" />
            </geometry>
            <material name="">
                <color rgba="0.827450980392157 0.83921568627451 0.827450980392157 1" />
            </material>
        </visual>
        <collision>
            <origin rpy="0 0 0" xyz="0 0 0" />
            <geometry>
                <mesh filename="package://zetax/meshes/left_index_J33.STL" />
            </geometry>
        </collision>
    </link>
    <joint name="J33" type="revolute">
        <origin rpy="-3.14159265358979 0 3.14159265358979" xyz="-0.00140054427447031 0.0358 0" />
        <parent link="left_index_J32" />
        <child link="left_index_J33" />
        <axis xyz="0 0 1" />
        <limit effort="0" lower="0" upper="0" velocity="0" />
        <mimic joint="J32" multiplier="-0.7" offset="0" />
    </joint>
    <link name="left_index_J34">
        <inertial>
            <origin rpy="0 0 0" xyz="0.000415446762557725 0.0114626819413309 -0.00425157570342784" />
            <mass value="0.00245836245787869" />
            <inertia ixx="8.02415834864142E-08" ixy="-6.59249255397104E-09" ixz="-3.07378610737094E-11" iyy="6.18423943807246E-08" iyz="-3.08219508070329E-11" izz="8.42618513677087E-08" />
        </inertial>
        <visual>
            <origin rpy="0 0 0" xyz="0 0 0" />
            <geometry>
                <mesh filename="package://zetax/meshes/left_index_J34.STL" />
            </geometry>
            <material name="">
                <color rgba="0.827450980392157 0.83921568627451 0.827450980392157 1" />
            </material>
        </visual>
        <collision>
            <origin rpy="0 0 0" xyz="0 0 0" />
            <geometry>
                <mesh filename="package://zetax/meshes/left_index_J34.STL" />
            </geometry>
        </collision>
    </link>
    <joint name="J34" type="revolute">
        <origin rpy="0 0 0" xyz="-0.00150000000000008 0.023 0" />
        <parent link="left_index_J33" />
        <child link="left_index_J34" />
        <axis xyz="0 0 1" />
        <limit effort="0" lower="0" upper="0" velocity="0" />
        <mimic joint="J33" multiplier="0.3" offset="0" />
    </joint>
    <link name="left_middle_J35">
        <inertial>
            <origin rpy="0 0 0" xyz="-0.000934483755357485 0.0191929098670874 0.00342873504525023" />
            <mass value="0.00545626794340784" />
            <inertia ixx="4.48870958849462E-07" ixy="4.71991109294057E-09" ixz="1.90753405693071E-10" iyy="2.87363163162531E-07" iyz="-1.67672644515456E-12" izz="3.90655320254193E-07" />
        </inertial>
        <visual>
            <origin rpy="0 0 0" xyz="0 0 0" />
            <geometry>
                <mesh filename="package://zetax/meshes/left_middle_J35.STL" />
            </geometry>
            <material name="">
                <color rgba="0.827450980392157 0.83921568627451 0.827450980392157 1" />
            </material>
        </visual>
        <collision>
            <origin rpy="0 0 0" xyz="0 0 0" />
            <geometry>
                <mesh filename="package://zetax/meshes/left_middle_J35.STL" />
            </geometry>
        </collision>
    </link>
    <joint name="J35" type="revolute">
        <origin rpy="1.54697555534349 0 0" xyz="0.000500000000000056 0.0117853674941978 0.12573636472946" />
        <parent link="left_wrist_J28" />
        <child link="left_middle_J35" />
        <axis xyz="0 0 1" />
        <limit effort="0" lower="0" upper="1.57" velocity="0" />
    </joint>
    <link name="left_middle_J36">
        <inertial>
            <origin rpy="0 0 0" xyz="-0.00118665691835254 0.0114470870553567 -0.00342831490792655" />
            <mass value="0.0034868115110658" />
            <inertia ixx="1.45566368145606E-07" ixy="-8.62030555929445E-09" ixz="4.90870967451851E-12" iyy="1.20774899493003E-07" iyz="6.82588319977854E-12" izz="1.42496244053076E-07" />
        </inertial>
        <visual>
            <origin rpy="0 0 0" xyz="0 0 0" />
            <geometry>
                <mesh filename="package://zetax/meshes/left_middle_J36.STL" />
            </geometry>
            <material name="">
                <color rgba="0.827450980392157 0.83921568627451 0.827450980392157 1" />
            </material>
        </visual>
        <collision>
            <origin rpy="0 0 0" xyz="0 0 0" />
            <geometry>
                <mesh filename="package://zetax/meshes/left_middle_J36.STL" />
            </geometry>
        </collision>
    </link>
    <joint name="J36" type="revolute">
        <origin rpy="3.14159265358979 0 -3.14159265358979" xyz="-0.00147757420956623 0.0377689999999999 0" />
        <parent link="left_middle_J35" />
        <child link="left_middle_J36" />
        <axis xyz="0 0 1" />
        <limit effort="0" lower="0" upper="0" velocity="0" />
        <mimic joint="J35" multiplier="-0.7" offset="0" />
    </joint>
    <link name="left_middle_J37">
        <inertial>
            <origin rpy="0 0 0" xyz="0.000438295033802494 0.0120931313817823 -0.00343041176040154" />
            <mass value="0.0028867105788087" />
            <inertia ixx="1.04872547967491E-07" ixy="-8.6160991022012E-09" ixz="-4.01654046533511E-11" iyy="8.08255068019359E-08" iyz="-4.02694618159568E-11" izz="1.10126871303978E-07" />
        </inertial>
        <visual>
            <origin rpy="0 0 0" xyz="0 0 0" />
            <geometry>
                <mesh filename="package://zetax/meshes/left_middle_J37.STL" />
            </geometry>
            <material name="">
                <color rgba="0.827450980392157 0.83921568627451 0.827450980392157 1" />
            </material>
        </visual>
        <collision>
            <origin rpy="0 0 0" xyz="0 0 0" />
            <geometry>
                <mesh filename="package://zetax/meshes/left_middle_J37.STL" />
            </geometry>
        </collision>
    </link>
    <joint name="J37" type="revolute">
        <origin rpy="0 0 0" xyz="-0.00158250000000001 0.024265 0" />
        <parent link="left_middle_J36" />
        <child link="left_middle_J37" />
        <axis xyz="0 0 1" />
        <limit effort="0" lower="0" upper="0" velocity="0" />
        <mimic joint="J36" multiplier="0.3" offset="0" />
    </joint>
    <link name="left_ring_J38">
        <inertial>
            <origin rpy="0 0 0" xyz="9.12881251669551E-05 0.0177155889737994 -0.00225754982367157" />
            <mass value="0.0133046354671802" />
            <inertia ixx="2.52595640779639E-06" ixy="-2.44240376458657E-08" ixz="2.10118297569615E-08" iyy="1.25628686182119E-06" iyz="5.24431904651178E-07" izz="1.92184572573527E-06" />
        </inertial>
        <visual>
            <origin rpy="0 0 0" xyz="0 0 0" />
            <geometry>
                <mesh filename="package://zetax/meshes/left_ring_J38.STL" />
            </geometry>
            <material name="">
                <color rgba="0.827450980392157 0.83921568627451 0.827450980392157 1" />
            </material>
        </visual>
        <collision>
            <origin rpy="0 0 0" xyz="0 0 0" />
            <geometry>
                <mesh filename="package://zetax/meshes/left_ring_J38.STL" />
            </geometry>
        </collision>
    </link>
    <joint name="J38" type="revolute">
        <origin rpy="2.45248970858413 0 0" xyz="0 -0.00509139977148831 0.0798551911005397" />
        <parent link="left_wrist_J28" />
        <child link="left_ring_J38" />
        <axis xyz="0 0 1" />
        <limit effort="0" lower="0" upper="0.3" velocity="0" />
    </joint>
    <link name="left_ring_J39">
        <inertial>
            <origin rpy="0 0 0" xyz="-0.000598578601251454 -0.0182040381703557 -0.00424997506193665" />
            <mass value="0.00464663430459442" />
            <inertia ixx="3.43531119459082E-07" ixy="-1.66024936439166E-09" ixz="-1.46369638380522E-10" iyy="2.19788189716026E-07" iyz="-3.10032682951777E-12" izz="2.98904653320714E-07" />
        </inertial>
        <visual>
            <origin rpy="0 0 0" xyz="0 0 0" />
            <geometry>
                <mesh filename="package://zetax/meshes/left_ring_J39.STL" />
            </geometry>
            <material name="">
                <color rgba="0.827450980392157 0.83921568627451 0.827450980392157 1" />
            </material>
        </visual>
        <collision>
            <origin rpy="0 0 0" xyz="0 0 0" />
            <geometry>
                <mesh filename="package://zetax/meshes/left_ring_J39.STL" />
            </geometry>
        </collision>
    </link>
    <joint name="J39" type="revolute">
        <origin rpy="2.3454052782576 0 0" xyz="0.000300000000000022 0.0346017819984782 -0.0200869842235681" />
        <parent link="left_ring_J38" />
        <child link="left_ring_J39" />
        <axis xyz="0 0 -1" />
        <limit effort="0" lower="0" upper="0" velocity="0" />
        <mimic joint="J38" multiplier="5" offset="0" />
    </joint>
    <link name="left_ring_J40">
        <inertial>
            <origin rpy="0 0 0" xyz="0.00129586448134292 -0.010831217561988 -0.00424969953385764" />
            <mass value="0.00296941919084" />
            <inertia ixx="1.1158144624313E-07" ixy="-6.29327298143975E-09" ixz="-3.96444957041505E-12" iyy="9.22057737970092E-08" iyz="-6.30471508118228E-12" izz="1.09028862760786E-07" />
        </inertial>
        <visual>
            <origin rpy="0 0 0" xyz="0 0 0" />
            <geometry>
                <mesh filename="package://zetax/meshes/left_ring_J40.STL" />
            </geometry>
            <material name="">
                <color rgba="0.827450980392157 0.83921568627451 0.827450980392157 1" />
            </material>
        </visual>
        <collision>
            <origin rpy="0 0 0" xyz="0 0 0" />
            <geometry>
                <mesh filename="package://zetax/meshes/left_ring_J40.STL" />
            </geometry>
        </collision>
    </link>
    <joint name="J40" type="revolute">
        <origin rpy="0 0 0" xyz="-0.00083546011251015 -0.03581764272904 0" />
        <parent link="left_ring_J39" />
        <child link="left_ring_J40" />
        <axis xyz="0 0 1" />
        <limit effort="0" lower="0" upper="0" velocity="0" />
        <mimic joint="J39" multiplier="-0.7" offset="0" />
    </joint>
    <link name="left_ring_J41">
        <inertial>
            <origin rpy="0 0 0" xyz="-0.000234514601606145 -0.0114677610994188 -0.00425157383913447" />
            <mass value="0.00245835766242262" />
            <inertia ixx="8.04443226991858E-08" ixy="-6.29891086608242E-09" ixz="3.02866414657878E-11" iyy="6.16390081580507E-08" iyz="3.13137411318197E-11" izz="8.42611641105566E-08" />
        </inertial>
        <visual>
            <origin rpy="0 0 0" xyz="0 0 0" />
            <geometry>
                <mesh filename="package://zetax/meshes/left_ring_J41.STL" />
            </geometry>
            <material name="">
                <color rgba="0.827450980392157 0.83921568627451 0.827450980392157 1" />
            </material>
        </visual>
        <collision>
            <origin rpy="0 0 0" xyz="0 0 0" />
            <geometry>
                <mesh filename="package://zetax/meshes/left_ring_J41.STL" />
            </geometry>
        </collision>
    </link>
    <joint name="J41" type="revolute">
        <origin rpy="0 0 0" xyz="0.00186274410972295 -0.0229734669647769 0" />
        <parent link="left_ring_J40" />
        <child link="left_ring_J41" />
        <axis xyz="0 0 1" />
        <limit effort="0" lower="0" upper="0" velocity="0" />
        <mimic joint="J40" multiplier="0.3" offset="0" />
    </joint>
    <link name="left_little_J42">
        <inertial>
            <origin rpy="0 0 0" xyz="5.57601754879733E-05 0.0206404513348552 -0.00516910697804673" />
            <mass value="0.0179559453538315" />
            <inertia ixx="4.62597621783889E-06" ixy="-3.48512485823296E-08" ixz="1.46364935873009E-08" iyy="2.14739429140033E-06" iyz="1.30881552604496E-06" izz="3.35349486108658E-06" />
        </inertial>
        <visual>
            <origin rpy="0 0 0" xyz="0 0 0" />
            <geometry>
                <mesh filename="package://zetax/meshes/left_little_J42.STL" />
            </geometry>
            <material name="">
                <color rgba="0.827450980392157 0.83921568627451 0.827450980392157 1" />
            </material>
        </visual>
        <collision>
            <origin rpy="0 0 0" xyz="0 0 0" />
            <geometry>
                <mesh filename="package://zetax/meshes/left_little_J42.STL" />
            </geometry>
        </collision>
    </link>
    <joint name="J42" type="revolute">
        <origin rpy="2.45248970858413 0 0" xyz="0 -0.0245669987447054 0.0562148526643474" />
        <parent link="left_wrist_J28" />
        <child link="left_little_J42" />
        <axis xyz="0 0 1" />
        <limit effort="0" lower="0" upper="0.3" velocity="0" />
    </joint>
    <link name="left_little_J43">
        <inertial>
            <origin rpy="0 0 0" xyz="-0.000738287937155496 -0.0151633112560695 0.00354239702706284" />
            <mass value="0.00269063743360923" />
            <inertia ixx="1.38161686292443E-07" ixy="-1.45279930256721E-09" ixz="-5.89391815960085E-11" iyy="8.84498259540602E-08" iyz="-4.9309021345745E-13" izz="1.2024287228934E-07" />
        </inertial>
        <visual>
            <origin rpy="0 0 0" xyz="0 0 0" />
            <geometry>
                <mesh filename="package://zetax/meshes/left_little_J43.STL" />
            </geometry>
            <material name="">
                <color rgba="0.827450980392157 0.83921568627451 0.827450980392157 1" />
            </material>
        </visual>
        <collision>
            <origin rpy="0 0 0" xyz="0 0 0" />
            <geometry>
                <mesh filename="package://zetax/meshes/left_little_J43.STL" />
            </geometry>
        </collision>
    </link>
    <joint name="J43" type="revolute">
        <origin rpy="2.5138228945981 0 0" xyz="-0.000299999999999995 0.0497737275956689 -0.0196177359976469" />
        <parent link="left_little_J42" />
        <child link="left_little_J43" />
        <axis xyz="0 0 -1" />
        <limit effort="0" lower="0" upper="0" velocity="0" />
        <mimic joint="J42" multiplier="5" offset="0" />
    </joint>
    <link name="left_little_J44">
        <inertial>
            <origin rpy="0 0 0" xyz="0.000937561348390487 -0.00904366058604783 0.00354287922771984" />
            <mass value="0.00171949606742309" />
            <inertia ixx="4.48125534949881E-08" ixy="-2.65327828198805E-09" ixz="-2.25347798946083E-12" iyy="3.71753080424733E-08" iyz="-1.13081502448246E-12" izz="4.38545421840034E-08" />
        </inertial>
        <visual>
            <origin rpy="0 0 0" xyz="0 0 0" />
            <geometry>
                <mesh filename="package://zetax/meshes/left_little_J44.STL" />
            </geometry>
            <material name="">
                <color rgba="0.827450980392157 0.83921568627451 0.827450980392157 1" />
            </material>
        </visual>
        <collision>
            <origin rpy="0 0 0" xyz="0 0 0" />
            <geometry>
                <mesh filename="package://zetax/meshes/left_little_J44.STL" />
            </geometry>
        </collision>
    </link>
    <joint name="J44" type="revolute">
        <origin rpy="0 0 0" xyz="-0.00116735365277101 -0.0298393 0" />
        <parent link="left_little_J43" />
        <child link="left_little_J44" />
        <axis xyz="0 0 1" />
        <limit effort="0" lower="0" upper="0" velocity="0" />
        <mimic joint="J43" multiplier="-0.7" offset="0" />
    </joint>
    <link name="left_little_J45">
        <inertial>
            <origin rpy="0 0 0" xyz="-0.00034627 -0.009554 0.0035411" />
            <mass value="0.0014235" />
            <inertia ixx="3.2279E-08" ixy="-2.6521E-09" ixz="1.2404E-11" iyy="2.4878E-08" iyz="1.2445E-11" izz="3.3896E-08" />
        </inertial>
        <visual>
            <origin rpy="0 0 0" xyz="0 0 0" />
            <geometry>
                <mesh filename="package://zetax/meshes/left_little_J45.STL" />
            </geometry>
            <material name="">
                <color rgba="0.82745 0.83922 0.82745 1" />
            </material>
        </visual>
        <collision>
            <origin rpy="0 0 0" xyz="0 0 0" />
            <geometry>
                <mesh filename="package://zetax/meshes/left_little_J45.STL" />
            </geometry>
        </collision>
    </link>
    <joint name="J45" type="revolute">
        <origin rpy="0 0 0" xyz="0.00125025000000001 -0.0191705 0" />
        <parent link="left_little_J44" />
        <child link="left_little_J45" />
        <axis xyz="0 0 1" />
        <limit effort="0" lower="0" upper="0" velocity="0" />
        <mimic joint="J44" multiplier="0.3" offset="0" />
    </joint>
    <link name="head_up_down_J46">
        <inertial>
            <origin rpy="0 0 0" xyz="-0.011492 0.020219 1.9709E-05" />
            <mass value="0.078731" />
            <inertia ixx="6.175E-05" ixy="-3.7225E-06" ixz="-9.5696E-10" iyy="4.3027E-05" iyz="4.3182E-08" izz="3.5003E-05" />
        </inertial>
        <visual>
            <origin rpy="0 0 0" xyz="0 0 0" />
            <geometry>
                <mesh filename="package://zetax/meshes/head_up_down_J46.STL" />
            </geometry>
            <material name="">
                <color rgba="1 1 1 1" />
            </material>
        </visual>
        <collision>
            <origin rpy="0 0 0" xyz="0 0 0" />
            <geometry>
                <mesh filename="package://zetax/meshes/head_up_down_J46.STL" />
            </geometry>
        </collision>
    </link>
    <joint name="J46" type="revolute">
        <origin rpy="-1.5814 1.4972 1.5601" xyz="0.00015332 0.023737 1.0591" />
        <parent link="base_link" />
        <child link="head_up_down_J46" />
        <axis xyz="0 0 -1" />
        <limit effort="0" lower="-0.7" upper="0.7" velocity="0" />
    </joint>
    <link name="head_rl_J47">
        <inertial>
            <origin rpy="0 0 0" xyz="-0.0019065 -0.01805 0.055037" />
            <mass value="0.73534" />
            <inertia ixx="0.00071005" ixy="-8.8466E-07" ixz="8.7808E-07" iyy="0.00057552" iyz="2.3817E-06" izz="0.00076921" />
        </inertial>
        <visual>
            <origin rpy="0 0 0" xyz="0 0 0" />
            <geometry>
                <mesh filename="package://zetax/meshes/head_rl_J47.STL" />
            </geometry>
            <material name="">
                <color rgba="0.75294 0.75294 0.75294 1" />
            </material>
        </visual>
        <collision>
            <origin rpy="0 0 0" xyz="0 0 0" />
            <geometry>
                <mesh filename="package://zetax/meshes/head_rl_J47.STL" />
            </geometry>
        </collision>
    </link>
    <joint name="J47" type="revolute">
        <origin rpy="1.5708 1.5708 -1.5231" xyz="-0.023825 -0.0022254 0" />
        <parent link="head_up_down_J46" />
        <child link="head_rl_J47" />
        <axis xyz="0 0 -1" />
        <limit effort="0" lower="-1" upper="1" velocity="0" />
    </joint>
    <transmission name="transmission_1">
        <type>transmission_interface/SimpleTransmission</type>
        <joint name="J1">
            <hardwareInterface>hardware_interface/PositionJointInterface</hardwareInterface>
        </joint>
        <actuator name="motor_1">
            <hardwareInterface>hardware_interface/PositionJointInterface</hardwareInterface>
            <mechanicalReduction>1</mechanicalReduction>
        </actuator>
    </transmission>
    <transmission name="transmission_2">
        <type>transmission_interface/SimpleTransmission</type>
        <joint name="J2">
            <hardwareInterface>hardware_interface/PositionJointInterface</hardwareInterface>
        </joint>
        <actuator name="motor_2">
            <hardwareInterface>hardware_interface/PositionJointInterface</hardwareInterface>
            <mechanicalReduction>1</mechanicalReduction>
        </actuator>
    </transmission>
    <transmission name="transmission_3">
        <type>transmission_interface/SimpleTransmission</type>
        <joint name="J3">
            <hardwareInterface>hardware_interface/PositionJointInterface</hardwareInterface>
        </joint>
        <actuator name="motor_3">
            <hardwareInterface>hardware_interface/PositionJointInterface</hardwareInterface>
            <mechanicalReduction>1</mechanicalReduction>
        </actuator>
    </transmission>
    <transmission name="transmission_4">
        <type>transmission_interface/SimpleTransmission</type>
        <joint name="J4">
            <hardwareInterface>hardware_interface/PositionJointInterface</hardwareInterface>
        </joint>
        <actuator name="motor_4">
            <hardwareInterface>hardware_interface/PositionJointInterface</hardwareInterface>
            <mechanicalReduction>1</mechanicalReduction>
        </actuator>
    </transmission>
    <transmission name="transmission_5">
        <type>transmission_interface/SimpleTransmission</type>
        <joint name="J5">
            <hardwareInterface>hardware_interface/PositionJointInterface</hardwareInterface>
        </joint>
        <actuator name="motor_5">
            <hardwareInterface>hardware_interface/PositionJointInterface</hardwareInterface>
            <mechanicalReduction>1</mechanicalReduction>
        </actuator>
    </transmission>
    <transmission name="transmission_7">
        <type>transmission_interface/SimpleTransmission</type>
        <joint name="J7">
            <hardwareInterface>hardware_interface/PositionJointInterface</hardwareInterface>
        </joint>
        <actuator name="motor_7">
            <hardwareInterface>hardware_interface/PositionJointInterface</hardwareInterface>
            <mechanicalReduction>1</mechanicalReduction>
        </actuator>
    </transmission>
    <transmission name="transmission_10">
        <type>transmission_interface/SimpleTransmission</type>
        <joint name="J10">
            <hardwareInterface>hardware_interface/PositionJointInterface</hardwareInterface>
        </joint>
        <actuator name="motor_10">
            <hardwareInterface>hardware_interface/PositionJointInterface</hardwareInterface>
            <mechanicalReduction>1</mechanicalReduction>
        </actuator>
    </transmission>
    <transmission name="transmission_13">
        <type>transmission_interface/SimpleTransmission</type>
        <joint name="J13">
            <hardwareInterface>hardware_interface/PositionJointInterface</hardwareInterface>
        </joint>
        <actuator name="motor_13">
            <hardwareInterface>hardware_interface/PositionJointInterface</hardwareInterface>
            <mechanicalReduction>1</mechanicalReduction>
        </actuator>
    </transmission>
    <transmission name="transmission_16">
        <type>transmission_interface/SimpleTransmission</type>
        <joint name="J16">
            <hardwareInterface>hardware_interface/PositionJointInterface</hardwareInterface>
        </joint>
        <actuator name="motor_16">
            <hardwareInterface>hardware_interface/PositionJointInterface</hardwareInterface>
            <mechanicalReduction>1</mechanicalReduction>
        </actuator>
    </transmission>
    <transmission name="transmission_20">
        <type>transmission_interface/SimpleTransmission</type>
        <joint name="J20">
            <hardwareInterface>hardware_interface/PositionJointInterface</hardwareInterface>
        </joint>
        <actuator name="motor_20">
            <hardwareInterface>hardware_interface/PositionJointInterface</hardwareInterface>
            <mechanicalReduction>1</mechanicalReduction>
        </actuator>
    </transmission>
    <transmission name="transmission_24">
        <type>transmission_interface/SimpleTransmission</type>
        <joint name="J24">
            <hardwareInterface>hardware_interface/PositionJointInterface</hardwareInterface>
        </joint>
        <actuator name="motor_24">
            <hardwareInterface>hardware_interface/PositionJointInterface</hardwareInterface>
            <mechanicalReduction>1</mechanicalReduction>
        </actuator>
    </transmission>
    <transmission name="transmission_25">
        <type>transmission_interface/SimpleTransmission</type>
        <joint name="J25">
            <hardwareInterface>hardware_interface/PositionJointInterface</hardwareInterface>
        </joint>
        <actuator name="motor_25">
            <hardwareInterface>hardware_interface/PositionJointInterface</hardwareInterface>
            <mechanicalReduction>1</mechanicalReduction>
        </actuator>
    </transmission>
    <transmission name="transmission_26">
        <type>transmission_interface/SimpleTransmission</type>
        <joint name="J26">
            <hardwareInterface>hardware_interface/PositionJointInterface</hardwareInterface>
        </joint>
        <actuator name="motor_26">
            <hardwareInterface>hardware_interface/PositionJointInterface</hardwareInterface>
            <mechanicalReduction>1</mechanicalReduction>
        </actuator>
    </transmission>
    <transmission name="transmission_27">
        <type>transmission_interface/SimpleTransmission</type>
        <joint name="J27">
            <hardwareInterface>hardware_interface/PositionJointInterface</hardwareInterface>
        </joint>
        <actuator name="motor_27">
            <hardwareInterface>hardware_interface/PositionJointInterface</hardwareInterface>
            <mechanicalReduction>1</mechanicalReduction>
        </actuator>
    </transmission>
    <transmission name="transmission_28">
        <type>transmission_interface/SimpleTransmission</type>
        <joint name="J28">
            <hardwareInterface>hardware_interface/PositionJointInterface</hardwareInterface>
        </joint>
        <actuator name="motor_28">
            <hardwareInterface>hardware_interface/PositionJointInterface</hardwareInterface>
            <mechanicalReduction>1</mechanicalReduction>
        </actuator>
    </transmission>
    <transmission name="transmission_29">
        <type>transmission_interface/SimpleTransmission</type>
        <joint name="J29">
            <hardwareInterface>hardware_interface/PositionJointInterface</hardwareInterface>
        </joint>
        <actuator name="motor_29">
            <hardwareInterface>hardware_interface/PositionJointInterface</hardwareInterface>
            <mechanicalReduction>1</mechanicalReduction>
        </actuator>
    </transmission>
    <transmission name="transmission_32">
        <type>transmission_interface/SimpleTransmission</type>
        <joint name="J32">
            <hardwareInterface>hardware_interface/PositionJointInterface</hardwareInterface>
        </joint>
        <actuator name="motor_32">
            <hardwareInterface>hardware_interface/PositionJointInterface</hardwareInterface>
            <mechanicalReduction>1</mechanicalReduction>
        </actuator>
    </transmission>
    <transmission name="transmission_35">
        <type>transmission_interface/SimpleTransmission</type>
        <joint name="J35">
            <hardwareInterface>hardware_interface/PositionJointInterface</hardwareInterface>
        </joint>
        <actuator name="motor_35">
            <hardwareInterface>hardware_interface/PositionJointInterface</hardwareInterface>
            <mechanicalReduction>1</mechanicalReduction>
        </actuator>
    </transmission>
    <transmission name="transmission_38">
        <type>transmission_interface/SimpleTransmission</type>
        <joint name="J38">
            <hardwareInterface>hardware_interface/PositionJointInterface</hardwareInterface>
        </joint>
        <actuator name="motor_38">
            <hardwareInterface>hardware_interface/PositionJointInterface</hardwareInterface>
            <mechanicalReduction>1</mechanicalReduction>
        </actuator>
    </transmission>
    <transmission name="transmission_42">
        <type>transmission_interface/SimpleTransmission</type>
        <joint name="J42">
            <hardwareInterface>hardware_interface/PositionJointInterface</hardwareInterface>
        </joint>
        <actuator name="motor_42">
            <hardwareInterface>hardware_interface/PositionJointInterface</hardwareInterface>
            <mechanicalReduction>1</mechanicalReduction>
        </actuator>
    </transmission>
    <transmission name="transmission_46">
        <type>transmission_interface/SimpleTransmission</type>
        <joint name="J46">
            <hardwareInterface>hardware_interface/PositionJointInterface</hardwareInterface>
        </joint>
        <actuator name="motor_46">
            <hardwareInterface>hardware_interface/PositionJointInterface</hardwareInterface>
            <mechanicalReduction>1</mechanicalReduction>
        </actuator>
    </transmission>
    <transmission name="transmission_47">
        <type>transmission_interface/SimpleTransmission</type>
        <joint name="J47">
            <hardwareInterface>hardware_interface/PositionJointInterface</hardwareInterface>
        </joint>
        <actuator name="motor_47">
            <hardwareInterface>hardware_interface/PositionJointInterface</hardwareInterface>
            <mechanicalReduction>1</mechanicalReduction>
        </actuator>
    </transmission>
    <!-- gazebo ros_control plugin -->
    <gazebo>
        <plugin filename="libgazebo_ros_control.so" name="gazebo_ros_control">
            <robotNamespace>/zetax</robotNamespace>
            <robotSimType>gazebo_ros_control/DefaultRobotHWSim</robotSimType>
            <legacyModeNS>true</legacyModeNS>
        </plugin>
    </gazebo>
    <transmission name="trans_J8">
        <type>transmission_interface/SimpleTransmission</type>
        <joint name="J8">
            <hardwareInterface>hardware_interface/EffortJointInterface</hardwareInterface>
        </joint>
        <actuator name="J8_motor">
            <hardwareInterface>hardware_interface/EffortJointInterface</hardwareInterface>
            <mechanicalReduction>1</mechanicalReduction>
        </actuator>
    </transmission>
    <transmission name="trans_J9">
        <type>transmission_interface/SimpleTransmission</type>
        <joint name="J9">
            <hardwareInterface>hardware_interface/EffortJointInterface</hardwareInterface>
        </joint>
        <actuator name="J9_motor">
            <hardwareInterface>hardware_interface/EffortJointInterface</hardwareInterface>
            <mechanicalReduction>1</mechanicalReduction>
        </actuator>
    </transmission>
    <transmission name="trans_J11">
        <type>transmission_interface/SimpleTransmission</type>
        <joint name="J11">
            <hardwareInterface>hardware_interface/EffortJointInterface</hardwareInterface>
        </joint>
        <actuator name="J11_motor">
            <hardwareInterface>hardware_interface/EffortJointInterface</hardwareInterface>
            <mechanicalReduction>1</mechanicalReduction>
        </actuator>
    </transmission>
    <transmission name="trans_J12">
        <type>transmission_interface/SimpleTransmission</type>
        <joint name="J12">
            <hardwareInterface>hardware_interface/EffortJointInterface</hardwareInterface>
        </joint>
        <actuator name="J12_motor">
            <hardwareInterface>hardware_interface/EffortJointInterface</hardwareInterface>
            <mechanicalReduction>1</mechanicalReduction>
        </actuator>
    </transmission>
    <transmission name="trans_J14">
        <type>transmission_interface/SimpleTransmission</type>
        <joint name="J14">
            <hardwareInterface>hardware_interface/EffortJointInterface</hardwareInterface>
        </joint>
        <actuator name="J14_motor">
            <hardwareInterface>hardware_interface/EffortJointInterface</hardwareInterface>
            <mechanicalReduction>1</mechanicalReduction>
        </actuator>
    </transmission>
    <transmission name="trans_J15">
        <type>transmission_interface/SimpleTransmission</type>
        <joint name="J15">
            <hardwareInterface>hardware_interface/EffortJointInterface</hardwareInterface>
        </joint>
        <actuator name="J15_motor">
            <hardwareInterface>hardware_interface/EffortJointInterface</hardwareInterface>
            <mechanicalReduction>1</mechanicalReduction>
        </actuator>
    </transmission>
    <transmission name="trans_J17">
        <type>transmission_interface/SimpleTransmission</type>
        <joint name="J17">
            <hardwareInterface>hardware_interface/EffortJointInterface</hardwareInterface>
        </joint>
        <actuator name="J17_motor">
            <hardwareInterface>hardware_interface/EffortJointInterface</hardwareInterface>
            <mechanicalReduction>1</mechanicalReduction>
        </actuator>
    </transmission>
    <transmission name="trans_J18">
        <type>transmission_interface/SimpleTransmission</type>
        <joint name="J18">
            <hardwareInterface>hardware_interface/EffortJointInterface</hardwareInterface>
        </joint>
        <actuator name="J18_motor">
            <hardwareInterface>hardware_interface/EffortJointInterface</hardwareInterface>
            <mechanicalReduction>1</mechanicalReduction>
        </actuator>
    </transmission>
    <transmission name="trans_J19">
        <type>transmission_interface/SimpleTransmission</type>
        <joint name="J19">
            <hardwareInterface>hardware_interface/EffortJointInterface</hardwareInterface>
        </joint>
        <actuator name="J19_motor">
            <hardwareInterface>hardware_interface/EffortJointInterface</hardwareInterface>
            <mechanicalReduction>1</mechanicalReduction>
        </actuator>
    </transmission>
    <transmission name="trans_J21">
        <type>transmission_interface/SimpleTransmission</type>
        <joint name="J21">
            <hardwareInterface>hardware_interface/EffortJointInterface</hardwareInterface>
        </joint>
        <actuator name="J21_motor">
            <hardwareInterface>hardware_interface/EffortJointInterface</hardwareInterface>
            <mechanicalReduction>1</mechanicalReduction>
        </actuator>
    </transmission>
    <transmission name="trans_J22">
        <type>transmission_interface/SimpleTransmission</type>
        <joint name="J22">
            <hardwareInterface>hardware_interface/EffortJointInterface</hardwareInterface>
        </joint>
        <actuator name="J22_motor">
            <hardwareInterface>hardware_interface/EffortJointInterface</hardwareInterface>
            <mechanicalReduction>1</mechanicalReduction>
        </actuator>
    </transmission>
    <transmission name="trans_J23">
        <type>transmission_interface/SimpleTransmission</type>
        <joint name="J23">
            <hardwareInterface>hardware_interface/EffortJointInterface</hardwareInterface>
        </joint>
        <actuator name="J23_motor">
            <hardwareInterface>hardware_interface/EffortJointInterface</hardwareInterface>
            <mechanicalReduction>1</mechanicalReduction>
        </actuator>
    </transmission>
    <transmission name="trans_J30">
        <type>transmission_interface/SimpleTransmission</type>
        <joint name="J30">
            <hardwareInterface>hardware_interface/EffortJointInterface</hardwareInterface>
        </joint>
        <actuator name="J30_motor">
            <hardwareInterface>hardware_interface/EffortJointInterface</hardwareInterface>
            <mechanicalReduction>1</mechanicalReduction>
        </actuator>
    </transmission>
    <transmission name="trans_J31">
        <type>transmission_interface/SimpleTransmission</type>
        <joint name="J31">
            <hardwareInterface>hardware_interface/EffortJointInterface</hardwareInterface>
        </joint>
        <actuator name="J31_motor">
            <hardwareInterface>hardware_interface/EffortJointInterface</hardwareInterface>
            <mechanicalReduction>1</mechanicalReduction>
        </actuator>
    </transmission>
    <transmission name="trans_J33">
        <type>transmission_interface/SimpleTransmission</type>
        <joint name="J33">
            <hardwareInterface>hardware_interface/EffortJointInterface</hardwareInterface>
        </joint>
        <actuator name="J33_motor">
            <hardwareInterface>hardware_interface/EffortJointInterface</hardwareInterface>
            <mechanicalReduction>1</mechanicalReduction>
        </actuator>
    </transmission>
    <transmission name="trans_J34">
        <type>transmission_interface/SimpleTransmission</type>
        <joint name="J34">
            <hardwareInterface>hardware_interface/EffortJointInterface</hardwareInterface>
        </joint>
        <actuator name="J34_motor">
            <hardwareInterface>hardware_interface/EffortJointInterface</hardwareInterface>
            <mechanicalReduction>1</mechanicalReduction>
        </actuator>
    </transmission>
    <transmission name="trans_J36">
        <type>transmission_interface/SimpleTransmission</type>
        <joint name="J36">
            <hardwareInterface>hardware_interface/EffortJointInterface</hardwareInterface>
        </joint>
        <actuator name="J36_motor">
            <hardwareInterface>hardware_interface/EffortJointInterface</hardwareInterface>
            <mechanicalReduction>1</mechanicalReduction>
        </actuator>
    </transmission>
    <transmission name="trans_J37">
        <type>transmission_interface/SimpleTransmission</type>
        <joint name="J37">
            <hardwareInterface>hardware_interface/EffortJointInterface</hardwareInterface>
        </joint>
        <actuator name="J37_motor">
            <hardwareInterface>hardware_interface/EffortJointInterface</hardwareInterface>
            <mechanicalReduction>1</mechanicalReduction>
        </actuator>
    </transmission>
    <transmission name="trans_J39">
        <type>transmission_interface/SimpleTransmission</type>
        <joint name="J39">
            <hardwareInterface>hardware_interface/EffortJointInterface</hardwareInterface>
        </joint>
        <actuator name="J39_motor">
            <hardwareInterface>hardware_interface/EffortJointInterface</hardwareInterface>
            <mechanicalReduction>1</mechanicalReduction>
        </actuator>
    </transmission>
    <transmission name="trans_J40">
        <type>transmission_interface/SimpleTransmission</type>
        <joint name="J40">
            <hardwareInterface>hardware_interface/EffortJointInterface</hardwareInterface>
        </joint>
        <actuator name="J40_motor">
            <hardwareInterface>hardware_interface/EffortJointInterface</hardwareInterface>
            <mechanicalReduction>1</mechanicalReduction>
        </actuator>
    </transmission>
    <transmission name="trans_J41">
        <type>transmission_interface/SimpleTransmission</type>
        <joint name="J41">
            <hardwareInterface>hardware_interface/EffortJointInterface</hardwareInterface>
        </joint>
        <actuator name="J41_motor">
            <hardwareInterface>hardware_interface/EffortJointInterface</hardwareInterface>
            <mechanicalReduction>1</mechanicalReduction>
        </actuator>
    </transmission>
    <transmission name="trans_J43">
        <type>transmission_interface/SimpleTransmission</type>
        <joint name="J43">
            <hardwareInterface>hardware_interface/EffortJointInterface</hardwareInterface>
        </joint>
        <actuator name="J43_motor">
            <hardwareInterface>hardware_interface/EffortJointInterface</hardwareInterface>
            <mechanicalReduction>1</mechanicalReduction>
        </actuator>
    </transmission>
    <transmission name="trans_J44">
        <type>transmission_interface/SimpleTransmission</type>
        <joint name="J44">
            <hardwareInterface>hardware_interface/EffortJointInterface</hardwareInterface>
        </joint>
        <actuator name="J44_motor">
            <hardwareInterface>hardware_interface/EffortJointInterface</hardwareInterface>
            <mechanicalReduction>1</mechanicalReduction>
        </actuator>
    </transmission>
    <transmission name="trans_J45">
        <type>transmission_interface/SimpleTransmission</type>
        <joint name="J45">
            <hardwareInterface>hardware_interface/EffortJointInterface</hardwareInterface>
        </joint>
        <actuator name="J45_motor">
            <hardwareInterface>hardware_interface/EffortJointInterface</hardwareInterface>
            <mechanicalReduction>1</mechanicalReduction>
        </actuator>
    </transmission>
</robot>
